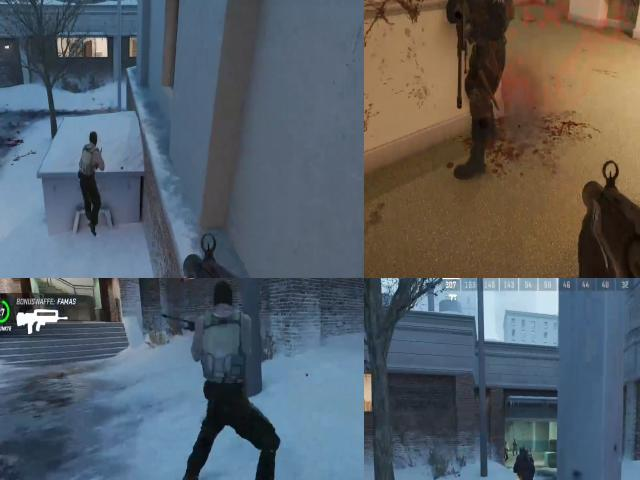CT: (453, 0, 510, 56), (511, 442, 537, 480), (600, 81, 602, 82)
CT-Head: (517, 444, 531, 466)
T: (188, 280, 260, 421), (75, 146, 106, 180)
T-Head: (203, 280, 237, 314), (83, 130, 103, 152)
